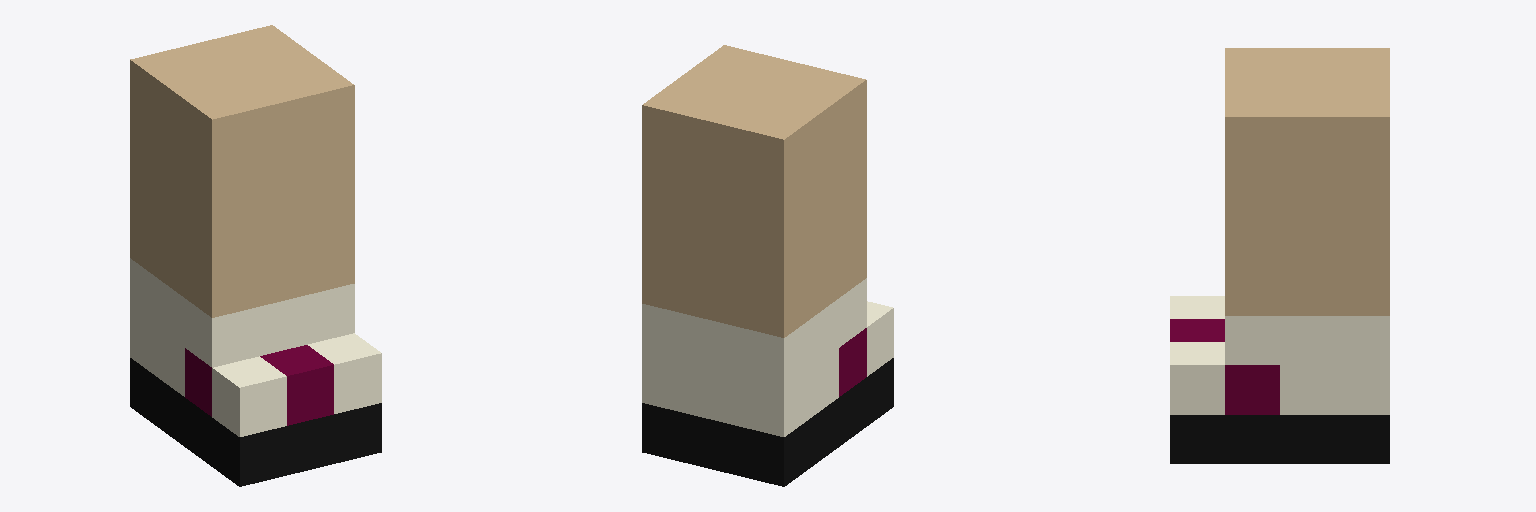
The picture shows the model from 3 angles: view 1: azimuth 30°, elevation 25°; view 2: azimuth 150°, elevation 25°; view 3: azimuth 270°, elevation 25°; orthographic projection.
Visible parts, largest first — view 1: kiritan_LegR; view 2: kiritan_LegR; view 3: kiritan_LegR.
Boxes of the visible parts, x1=… form: kiritan_LegR: x1=130, y1=25, x2=381, y2=486; kiritan_LegR: x1=642, y1=45, x2=893, y2=486; kiritan_LegR: x1=1170, y1=48, x2=1389, y2=463.
Bounding box in the file's own units: 3 × 7 × 4.
Materials: 1 (1 with a texture image).